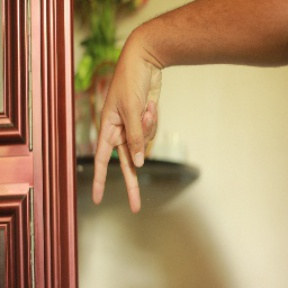Y: (87, 60, 165, 215)
